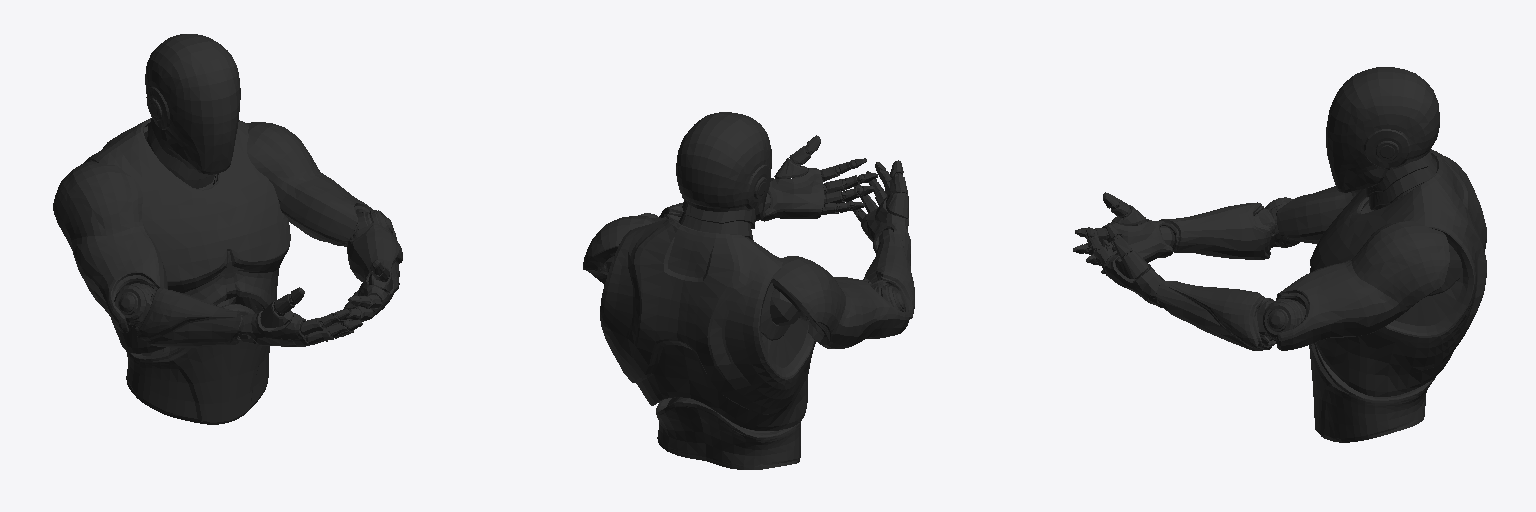
Rendered from body_Mannequin.obj.
The picture shows the model from 3 angles: view 1: azimuth 30°, elevation 25°; view 2: azimuth 150°, elevation 25°; view 3: azimuth 270°, elevation 25°; orthographic projection.
Parts seen in each view (by area): view 1: pasted__SK_Mannequin_LOD0; view 2: pasted__SK_Mannequin_LOD0; view 3: pasted__SK_Mannequin_LOD0.
Boxes of the visible parts, x1,y1,x2,y2 form: pasted__SK_Mannequin_LOD0: [53, 34, 402, 424]; pasted__SK_Mannequin_LOD0: [583, 112, 914, 469]; pasted__SK_Mannequin_LOD0: [1073, 67, 1486, 442].
Size of the model in its own units: 3.2 by 3.88 by 4.07.